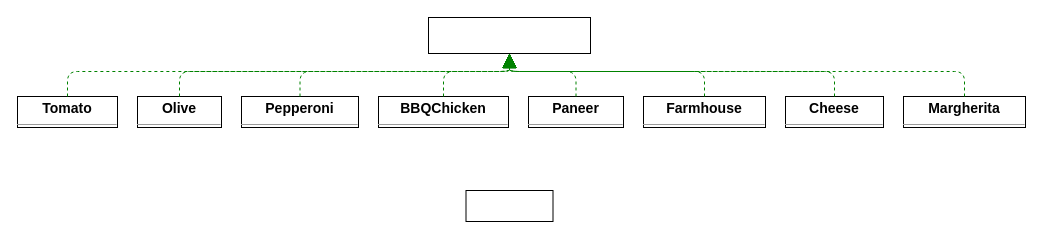
Some shapes in this 1043 by 239 pixel diagram are drawn without their labels. Here are the shapes that lost their labels. From the top down, the box of each, then its label:
(428, 16, 590, 54): <<interface>> PizzaConstituents
(465, 190, 553, 222): Client
